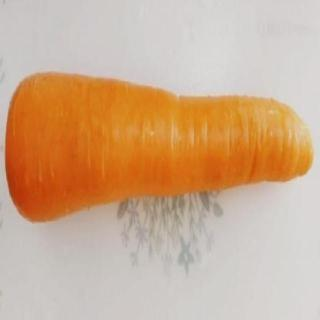carrot: (3, 69, 317, 225)
